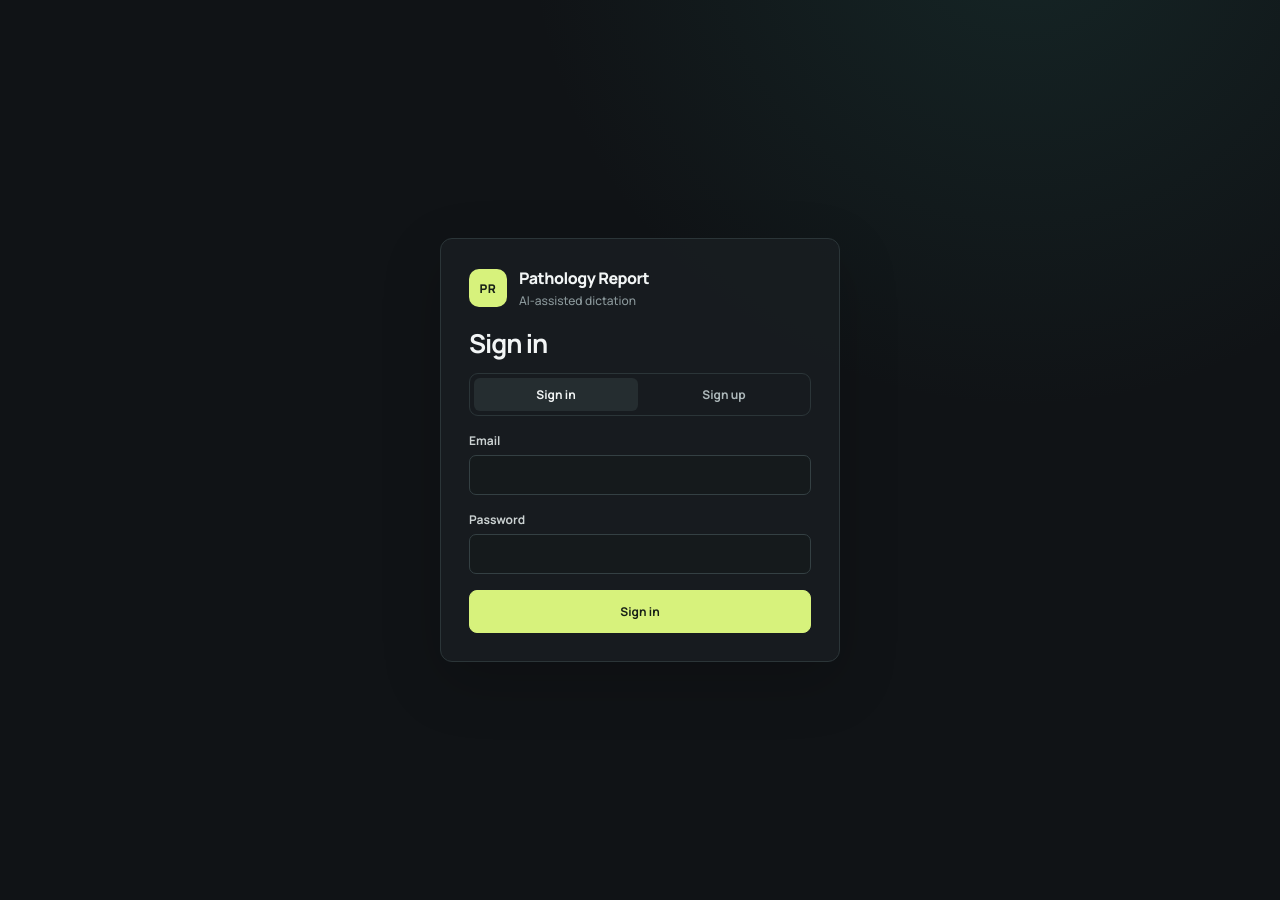
Scenario: signing in › creates an account from the sign-up tab
Step 1. Click the tab "Sign up" → (724, 394), box [642,378,806,411]
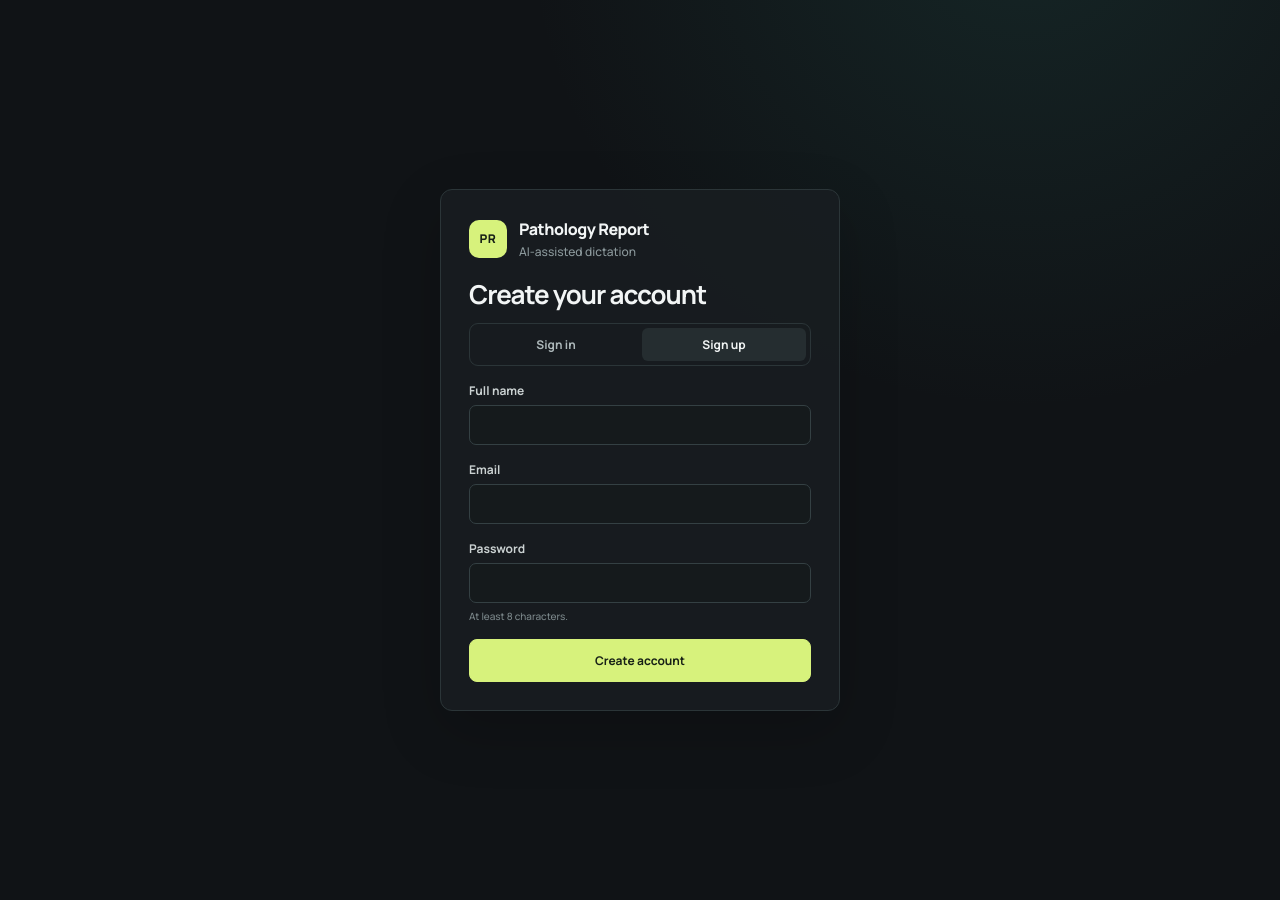
Step 2. Type "Dr. House" into the field labelled "Full name" → (640, 425), box [469,405,811,445]
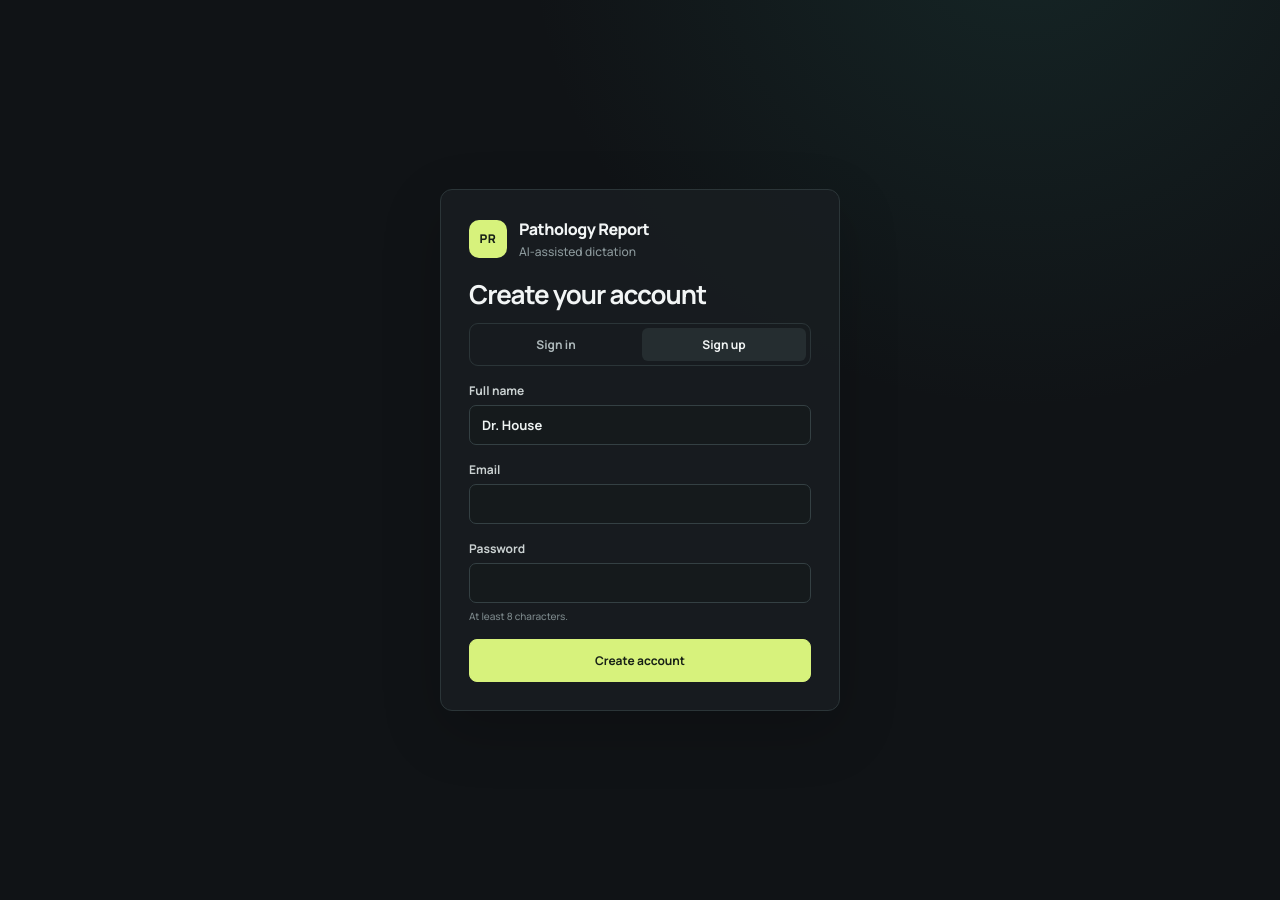
Step 3. Type "doc@example.com" into the field labelled "Email" → (640, 504), box [469,484,811,524]
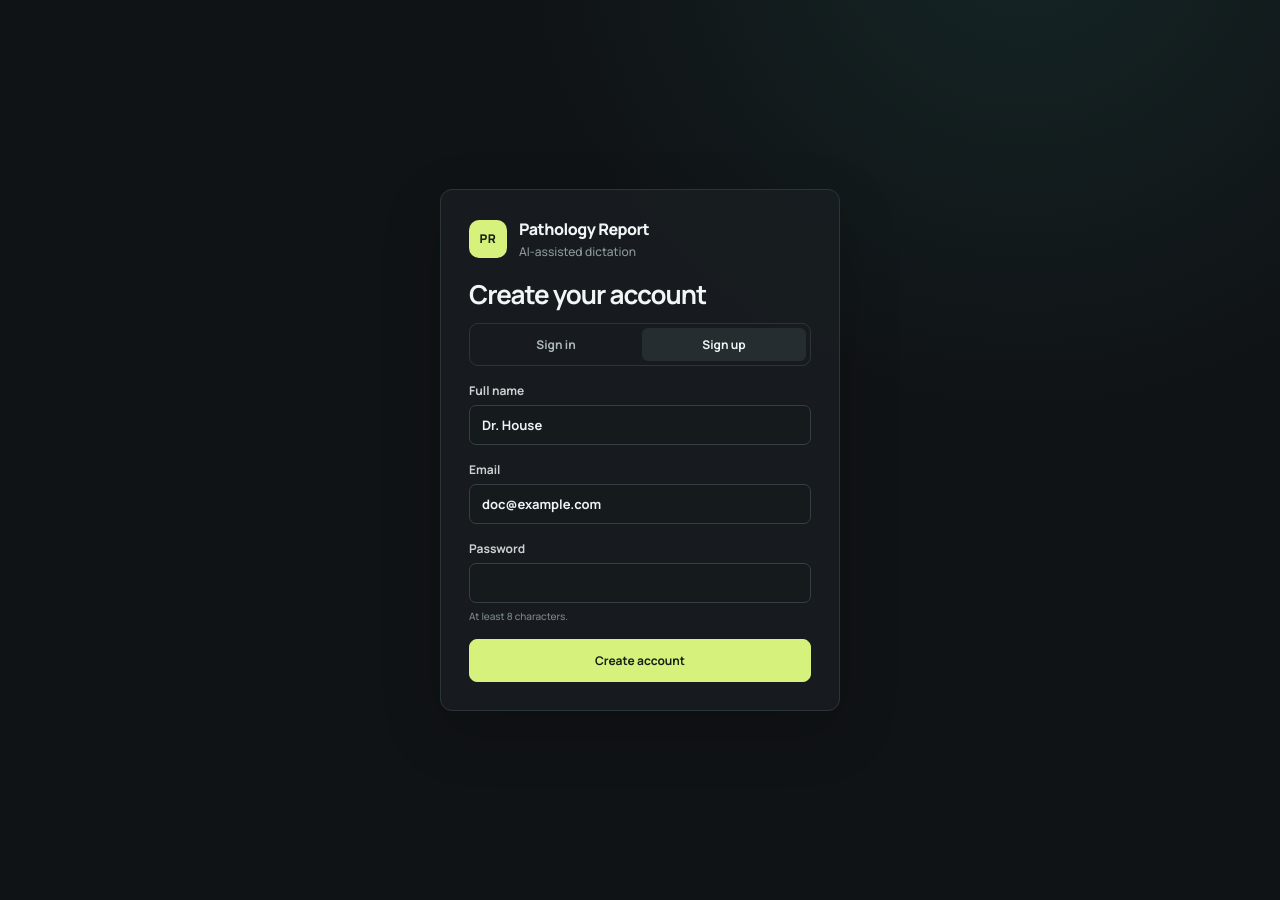
Step 4. Type "correct-horse" into the password field labelled "Password At least 8 characters." → (640, 583), box [469,563,811,603]
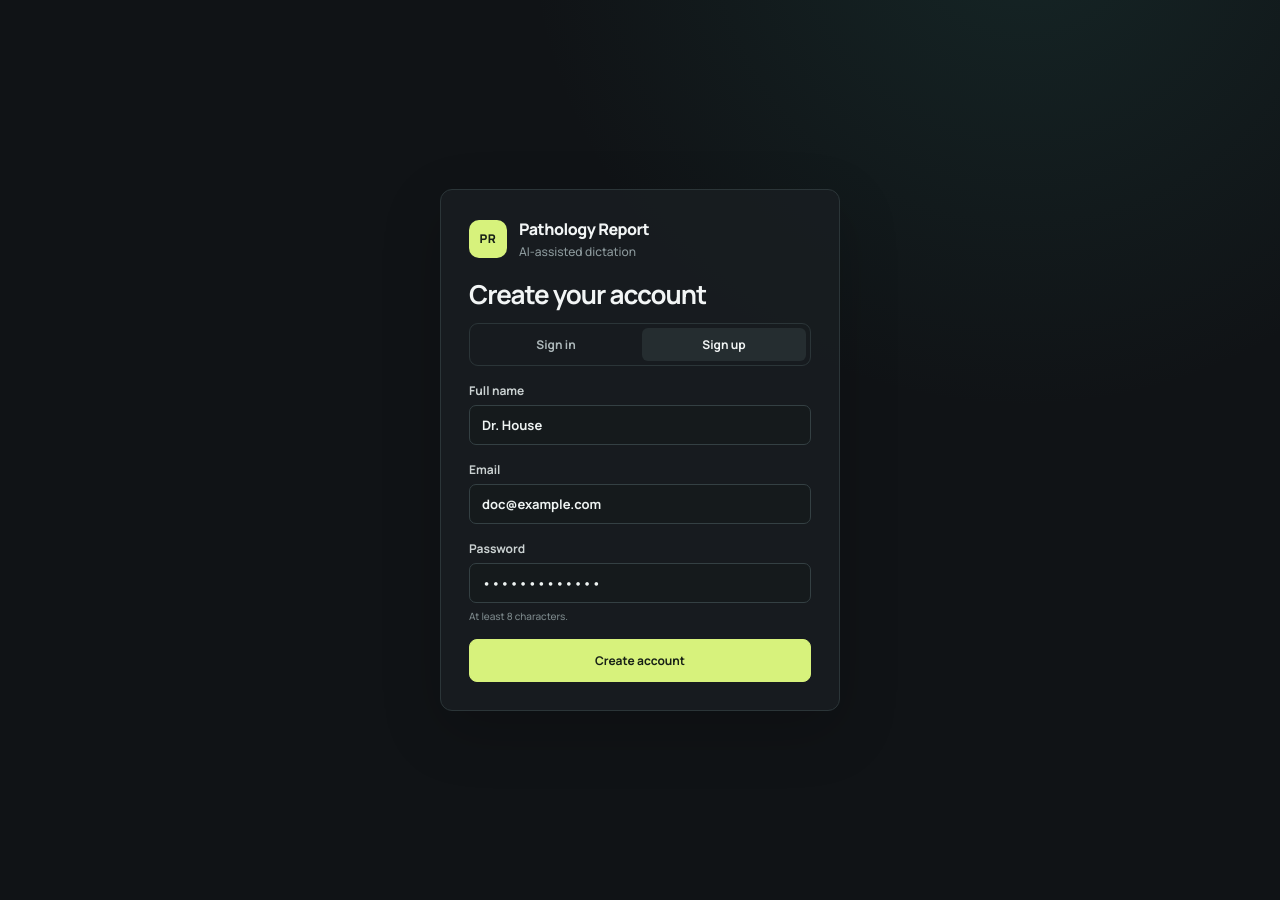
Step 5. Submit the form named "Email", box [440,189,840,711]
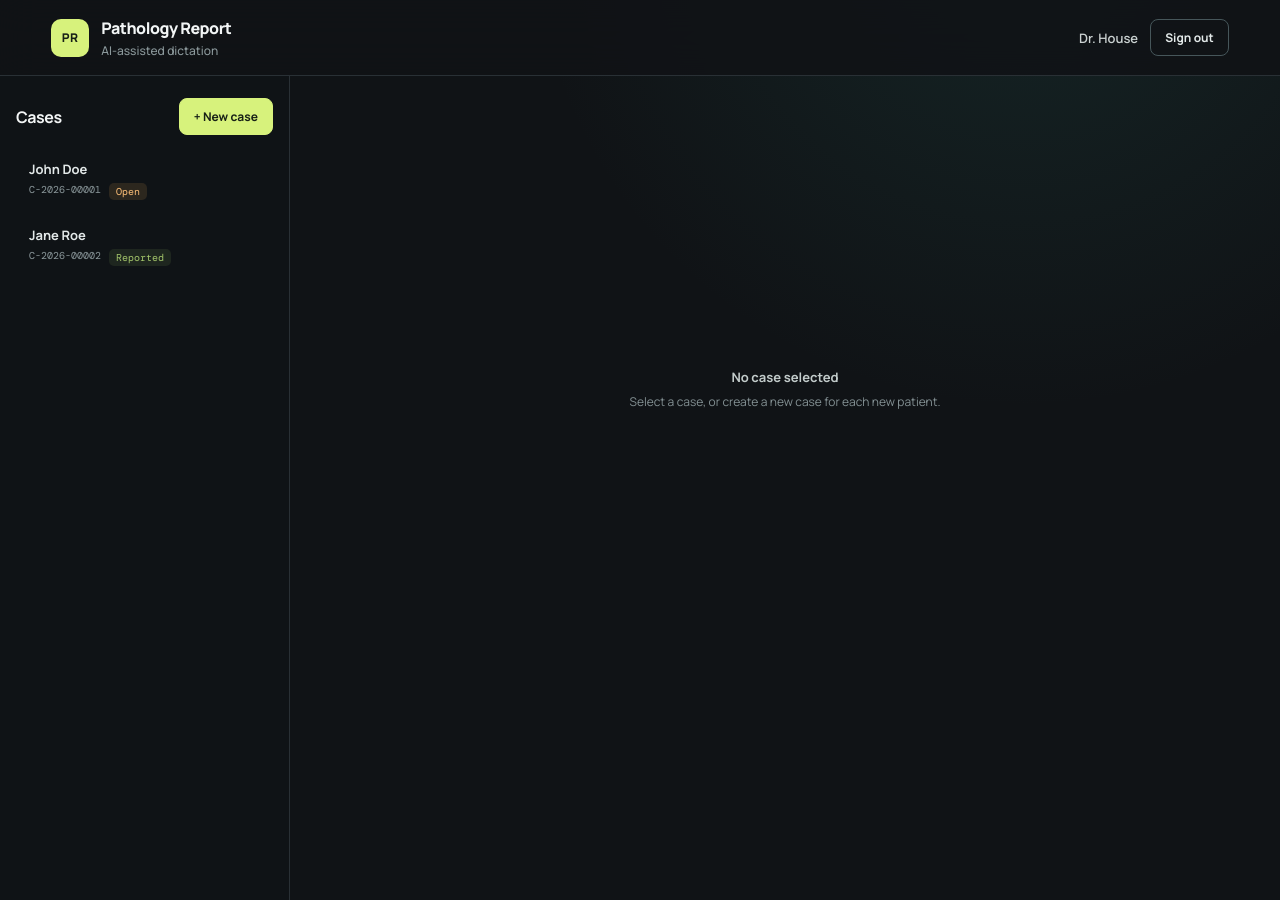
Result: the text "Dr. House" is shown at [1079,28,1138,46]
